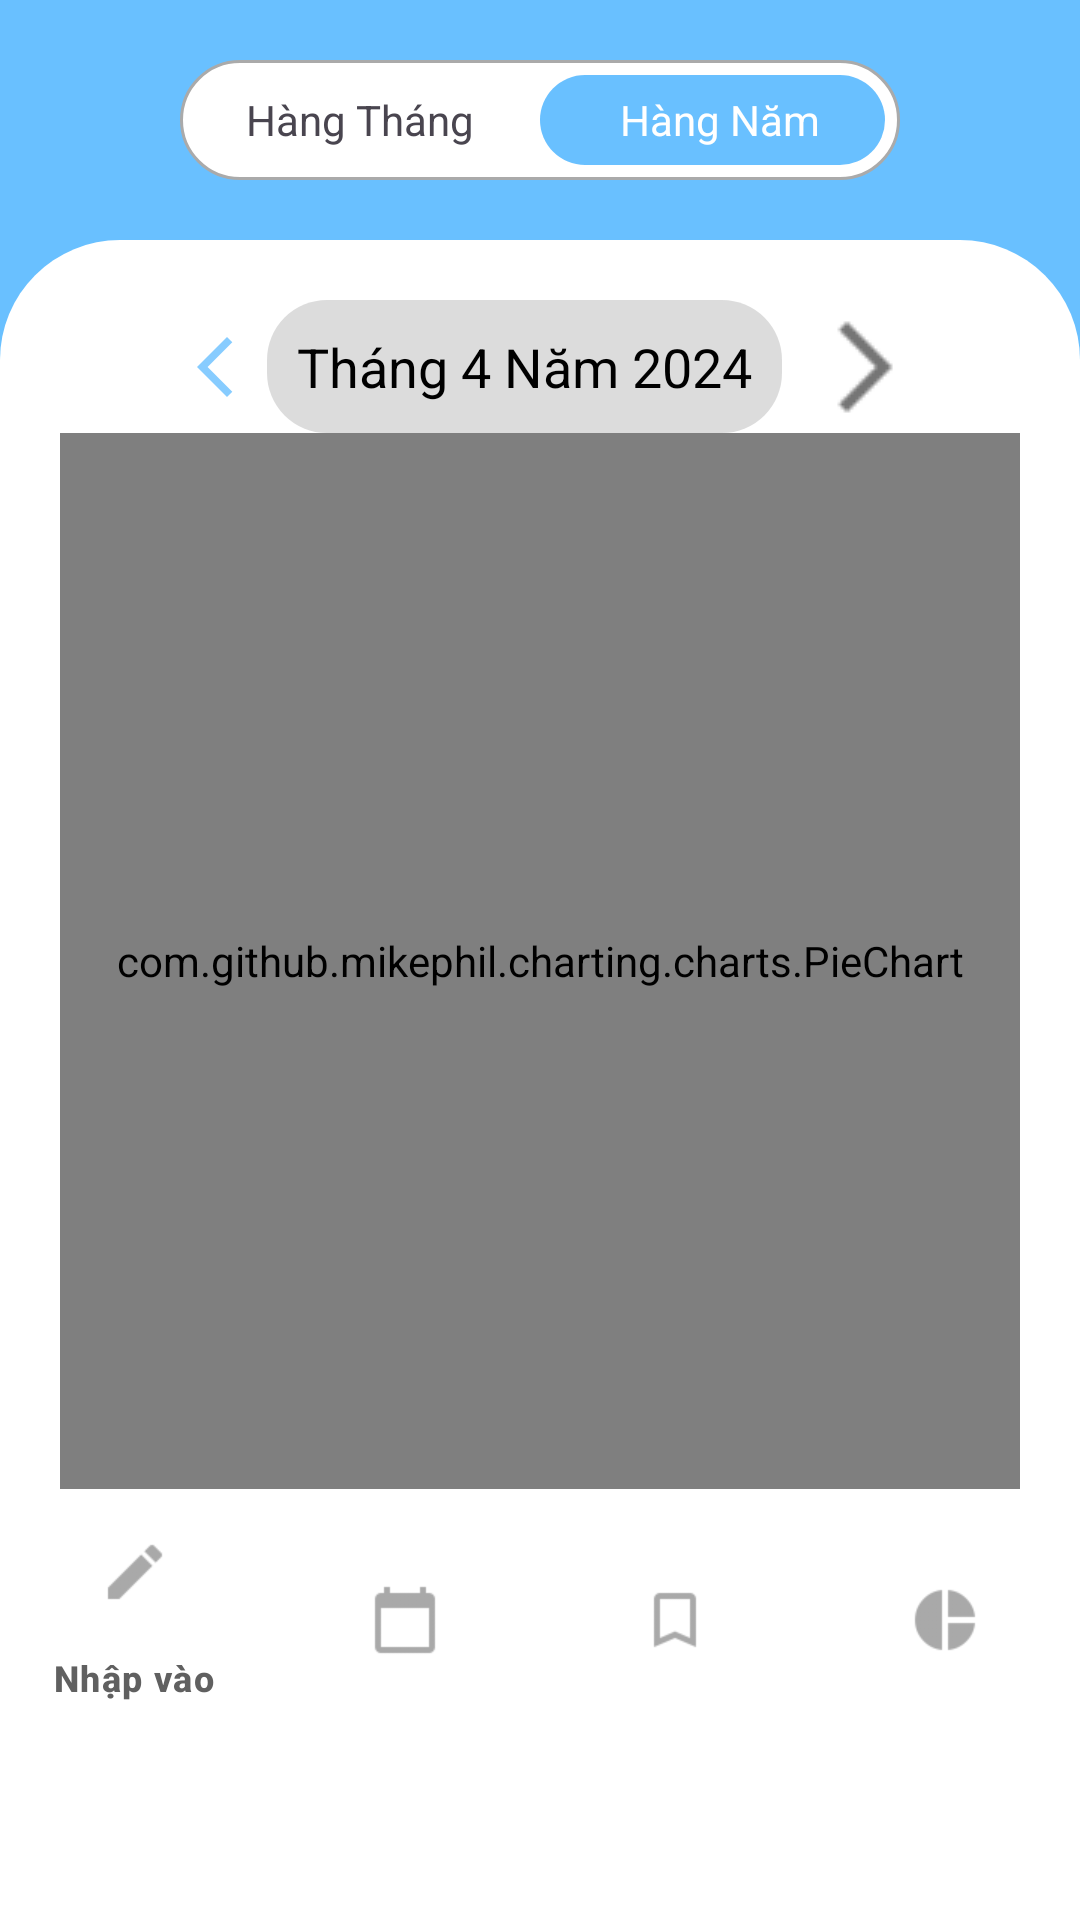

Screen size 1080 × 1920. Icon name, then its center in pixels as (x=x, y=y):
back: (x=214, y=367)
forward: (x=865, y=367)
